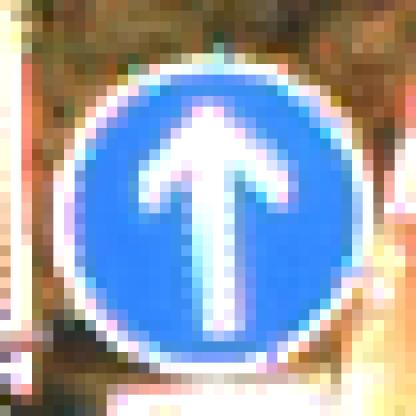AheadOnly: (54, 54, 364, 364)
